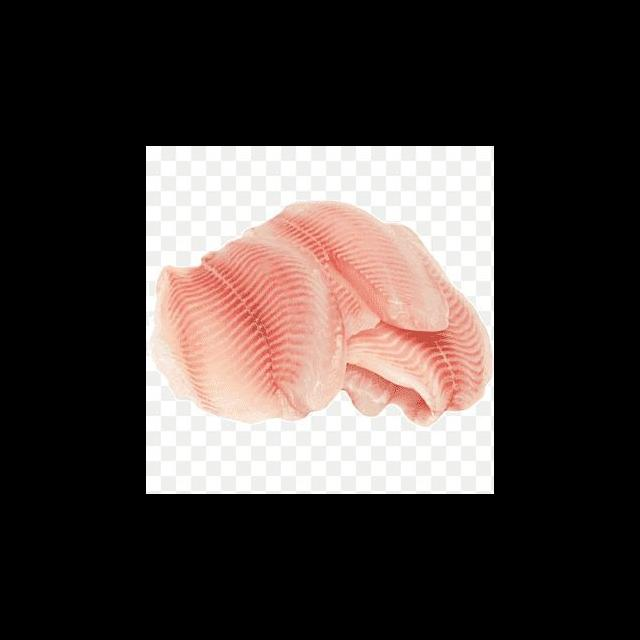fish: (146, 227, 353, 430)
